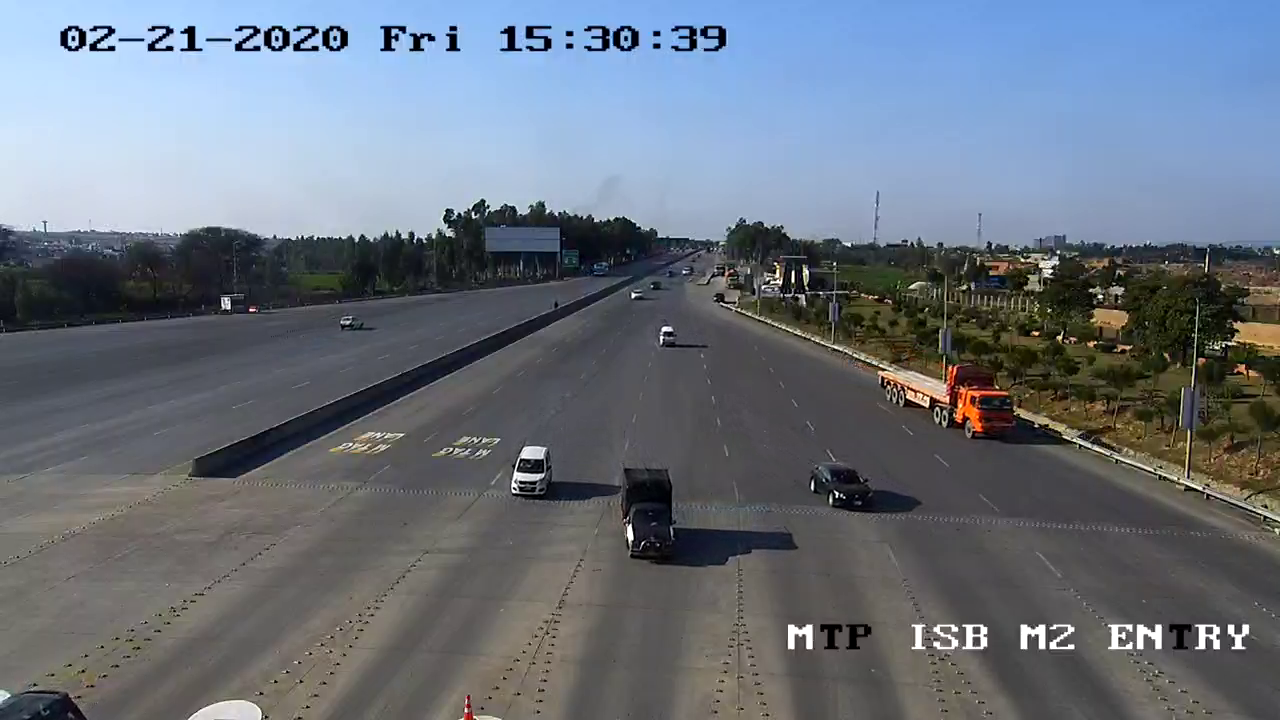f1: (794, 449, 888, 518), (503, 440, 560, 517)
f2: (608, 457, 685, 571)
f5: (862, 343, 1039, 448)
